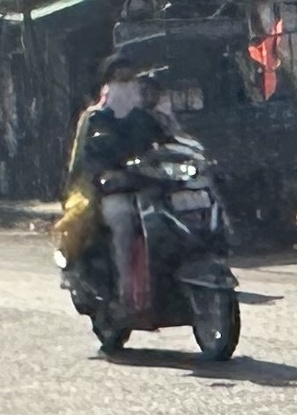BikeWithRider: (46, 48, 251, 368)
NoHelmet: (102, 49, 143, 116), (133, 64, 170, 117)
